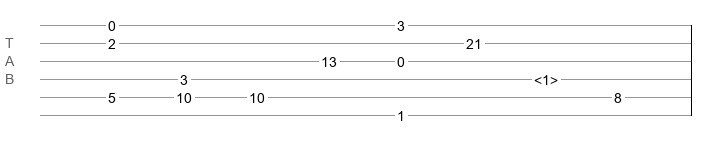0: (108, 18, 116, 28), (397, 54, 405, 64)
1: (397, 108, 405, 118)
10: (176, 90, 192, 100), (249, 90, 265, 100)
13: (321, 54, 337, 64)
2: (108, 36, 116, 46)
21: (466, 36, 482, 46)
3: (180, 72, 188, 82), (397, 18, 405, 28)
5: (108, 90, 116, 100)
8: (614, 90, 622, 100)
harmonic: (534, 72, 558, 82)
